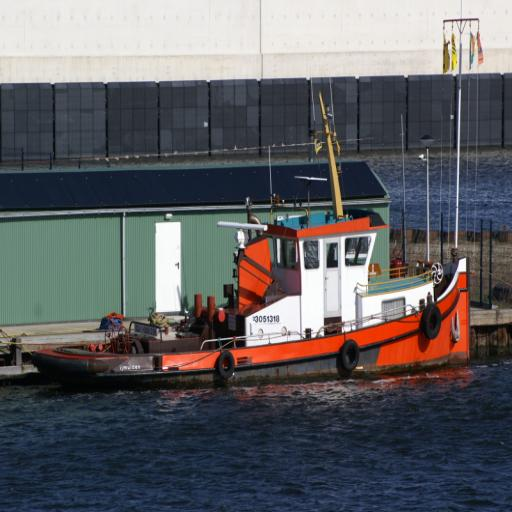tugboat: (28, 200, 475, 403)
